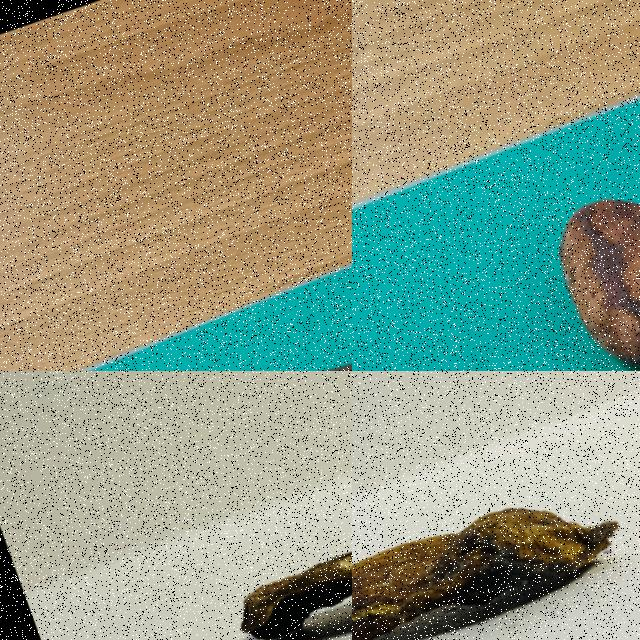Fine_cocoabeans: (434, 92, 639, 370), (89, 258, 351, 370)
Flat_cocoabeans: (352, 381, 639, 639), (165, 447, 351, 639)
